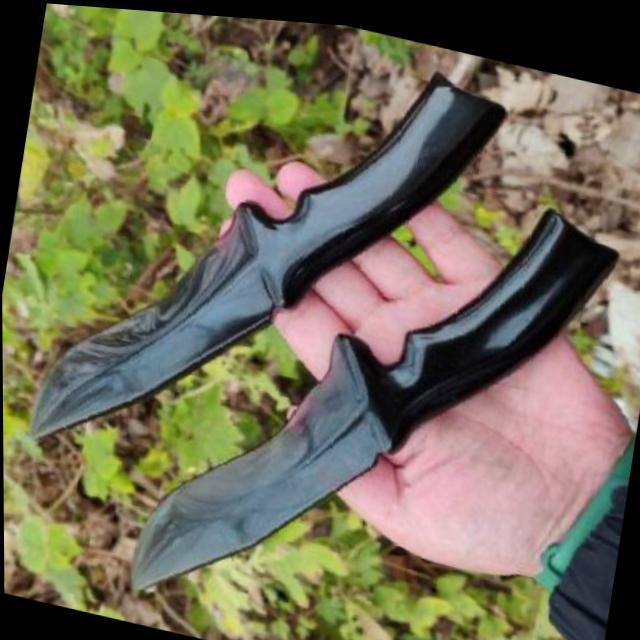weapon: (120, 115, 628, 640), (22, 2, 514, 534)
